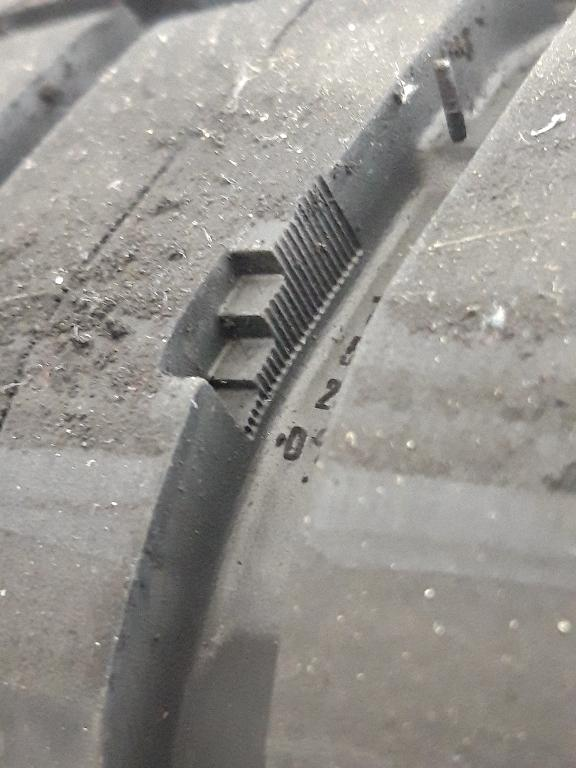temoin:75: (147, 209, 340, 449)
